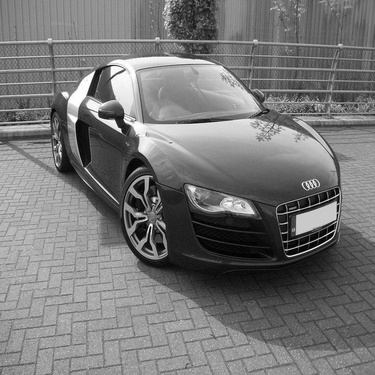car: (30, 46, 348, 282), (177, 174, 179, 175)
